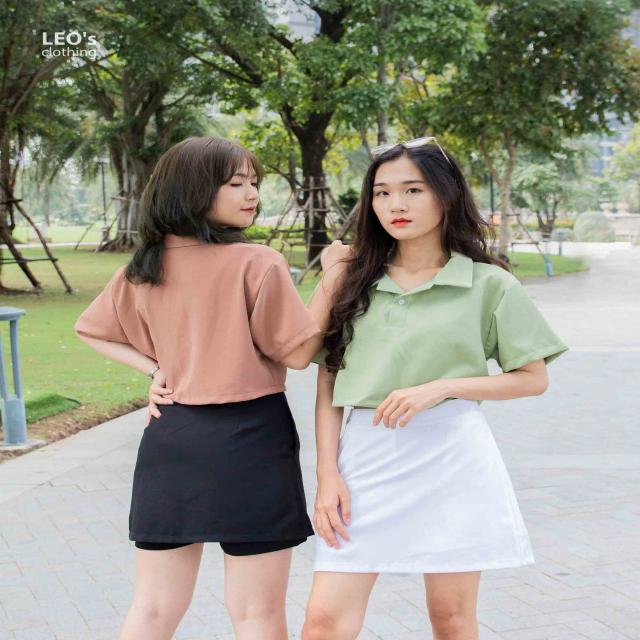clothes: (300, 231, 562, 575), (82, 227, 314, 553)
